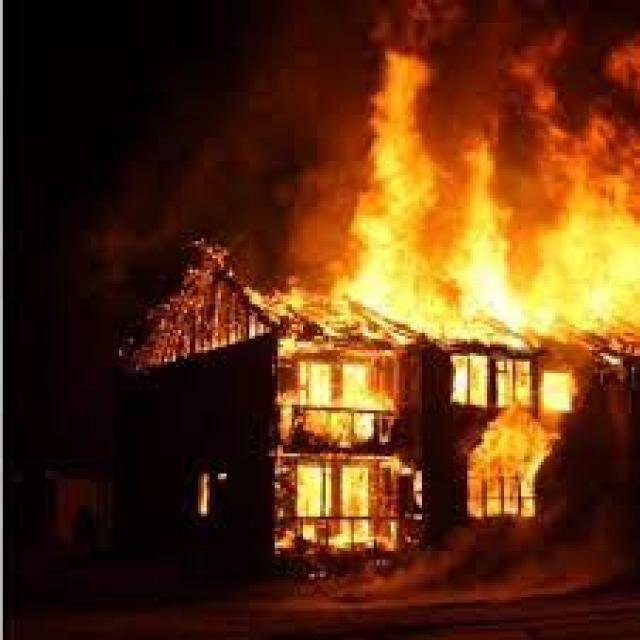Fire: (264, 241, 576, 527)
Smoke: (249, 18, 640, 336)
